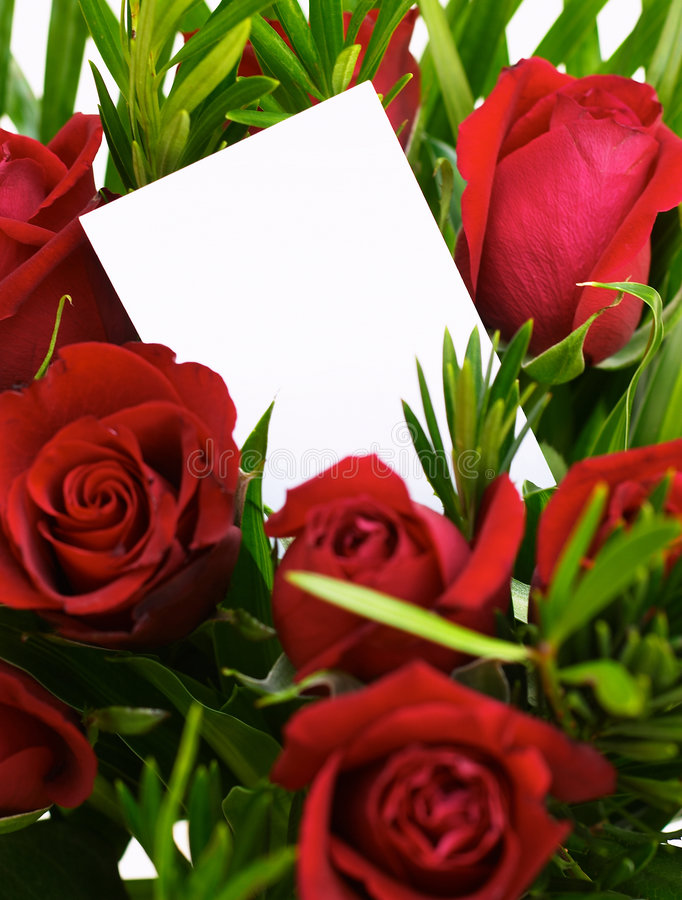RedRose: (442, 34, 682, 395), (8, 325, 257, 666), (281, 649, 614, 900), (265, 460, 545, 683)
